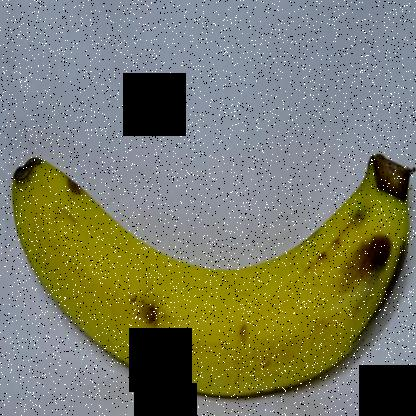freshripe: (1, 129, 415, 410)
